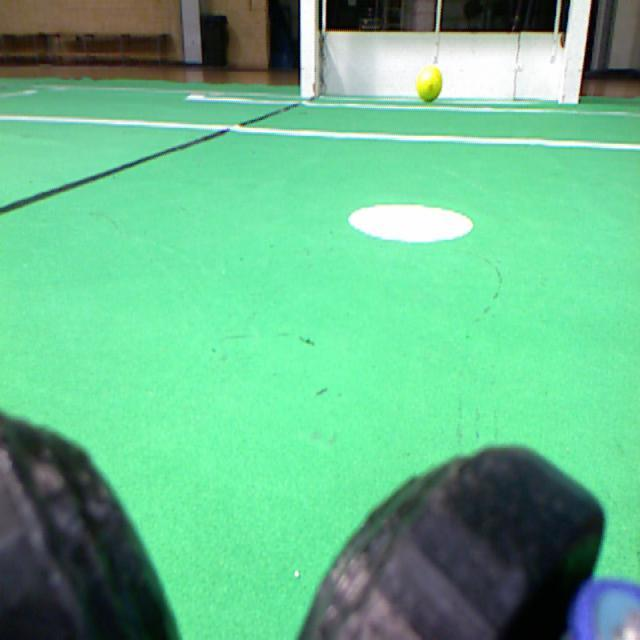ball: (416, 64, 441, 101)
goal: (563, 0, 590, 103), (300, 0, 318, 99)
